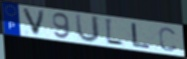9: (51, 12, 71, 39)
C: (158, 26, 177, 53)
L: (104, 17, 125, 48), (131, 22, 152, 50)
U: (74, 13, 101, 44)
V: (20, 7, 47, 37)
